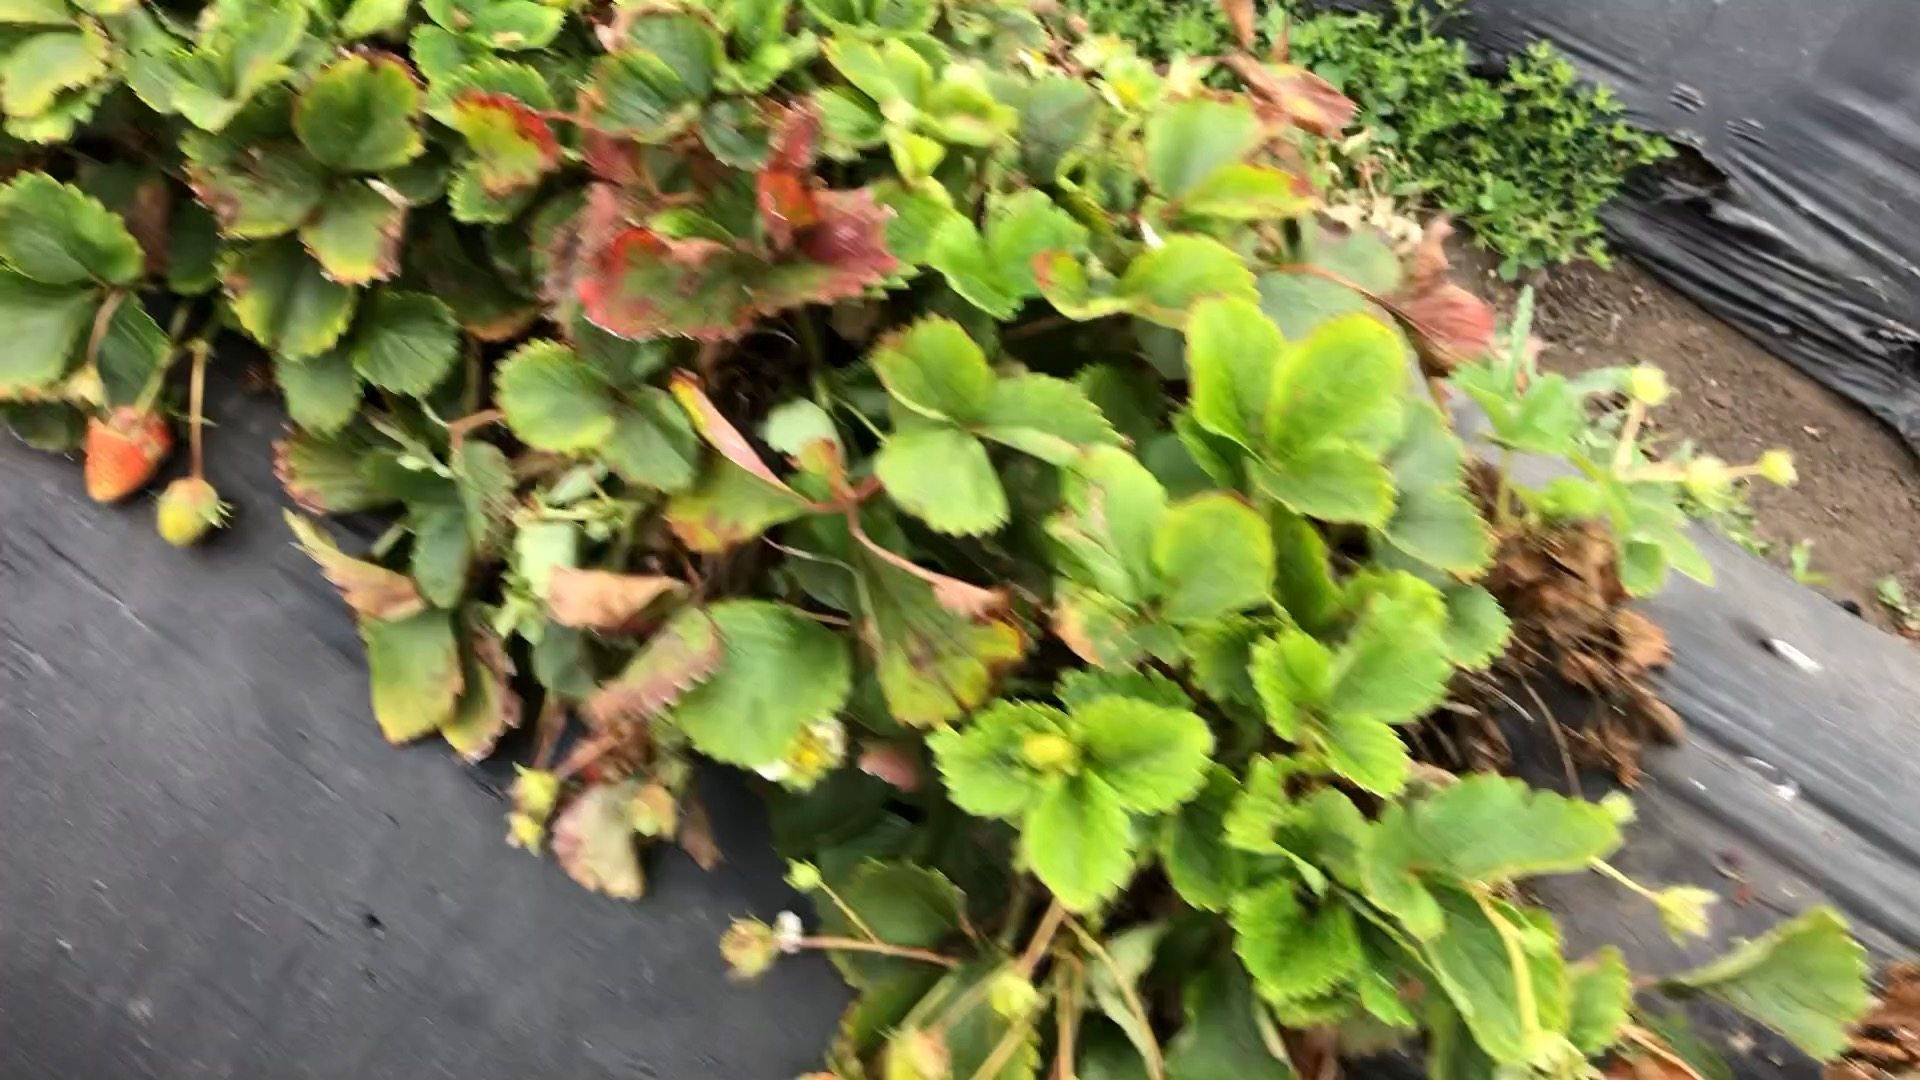unripe_strawberry: (88, 404, 170, 508), (157, 476, 220, 553)
